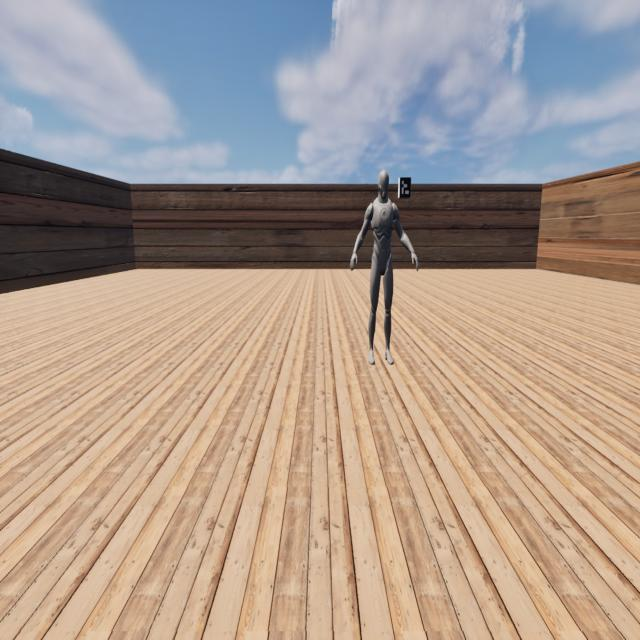aruco: (400, 177, 411, 198)
hip: (371, 252, 392, 262)
